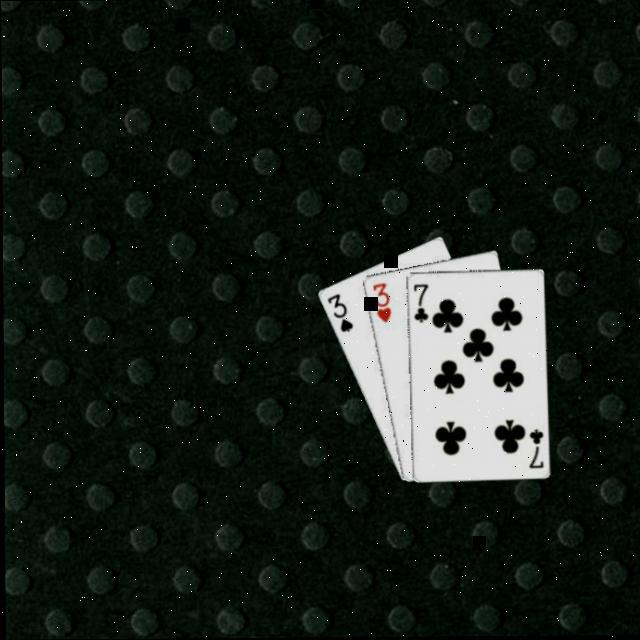3H: (368, 278, 392, 324)
3S: (322, 289, 354, 333)
7C: (523, 424, 543, 470), (408, 279, 428, 323)
